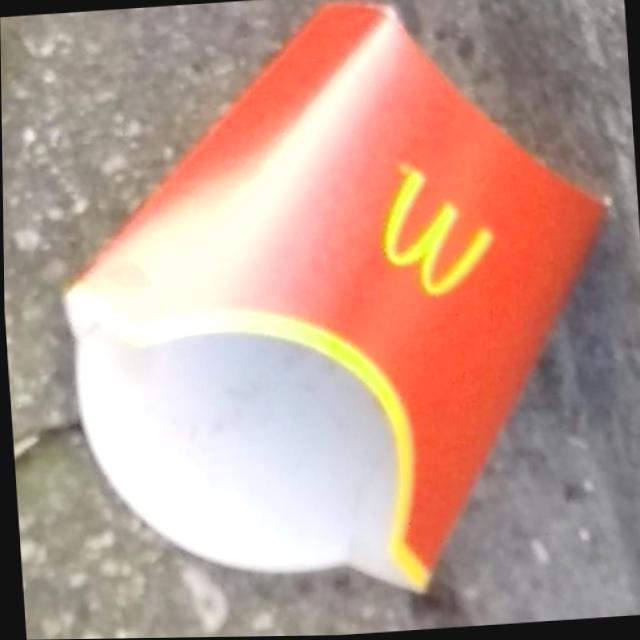Paper: (31, 0, 640, 628)
